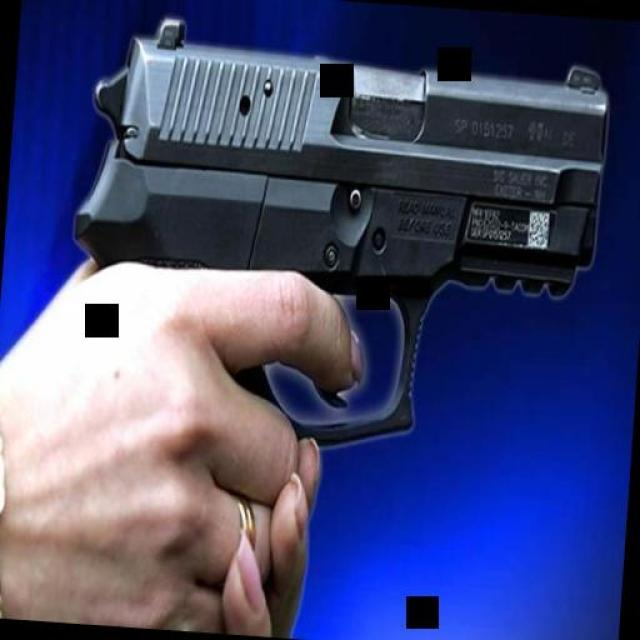gun: (45, 11, 610, 469)
